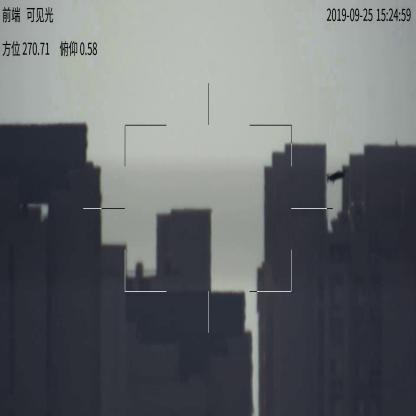uav: (324, 170, 345, 184)
